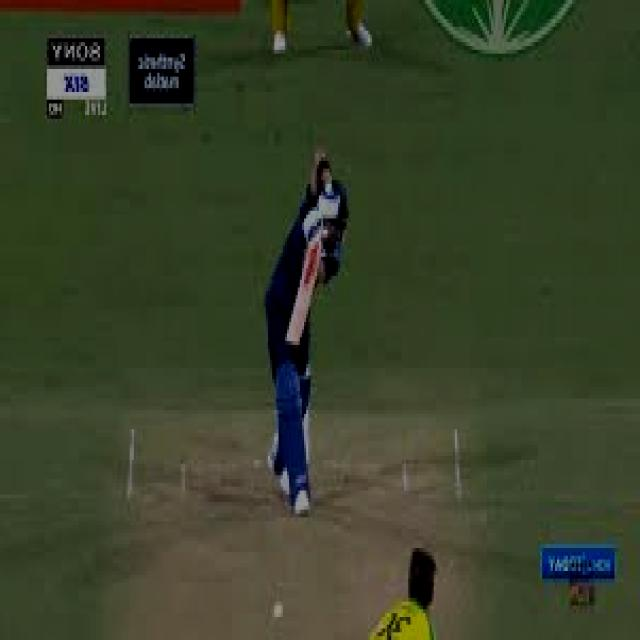toe: (280, 310, 307, 354)
